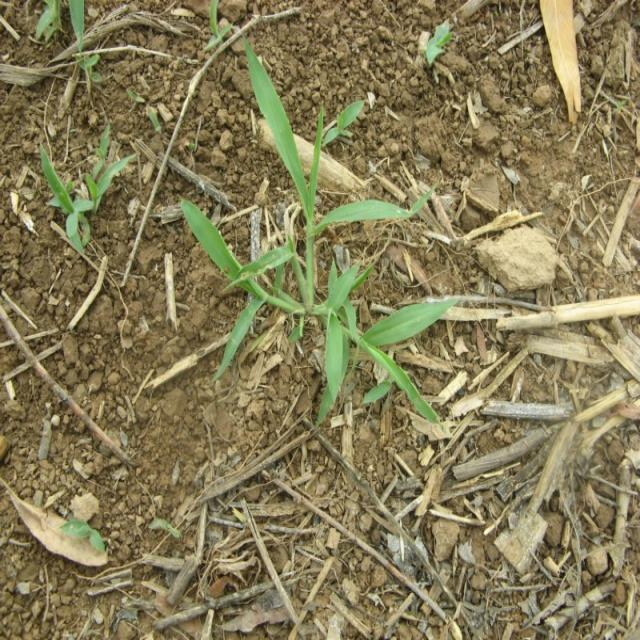bg: (177, 35, 444, 431), (37, 118, 128, 245)
